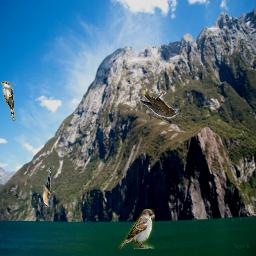Crow: (139, 90, 179, 119)
Cuckoo: (1, 81, 16, 121), (43, 167, 51, 207)
Sparrow: (118, 209, 155, 249)
